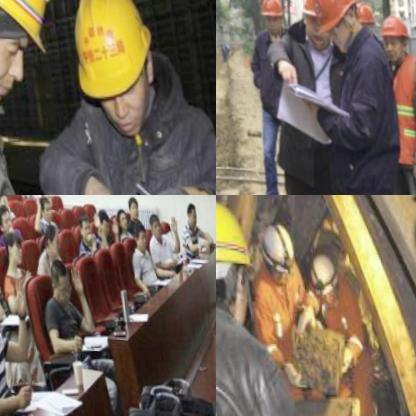head: (46, 256, 69, 302), (38, 217, 59, 258), (1, 230, 20, 263), (129, 214, 145, 246), (92, 202, 108, 230), (75, 210, 89, 237), (145, 206, 159, 232), (181, 195, 194, 219), (0, 201, 10, 231), (113, 204, 125, 226), (37, 195, 49, 217), (122, 195, 135, 213), (38, 195, 49, 204), (0, 195, 7, 208)
helmet: (60, 0, 166, 133), (0, 0, 57, 111), (216, 195, 256, 324), (258, 210, 297, 278), (308, 0, 361, 49), (306, 242, 343, 302), (378, 6, 410, 58), (298, 0, 331, 46), (258, 0, 284, 33), (353, 0, 375, 32)
